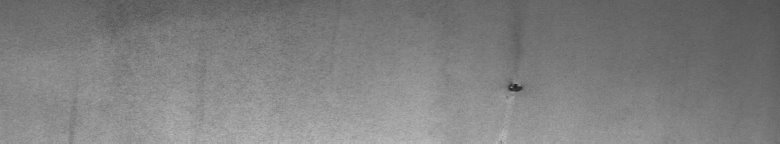fi: (504, 76, 524, 100)
